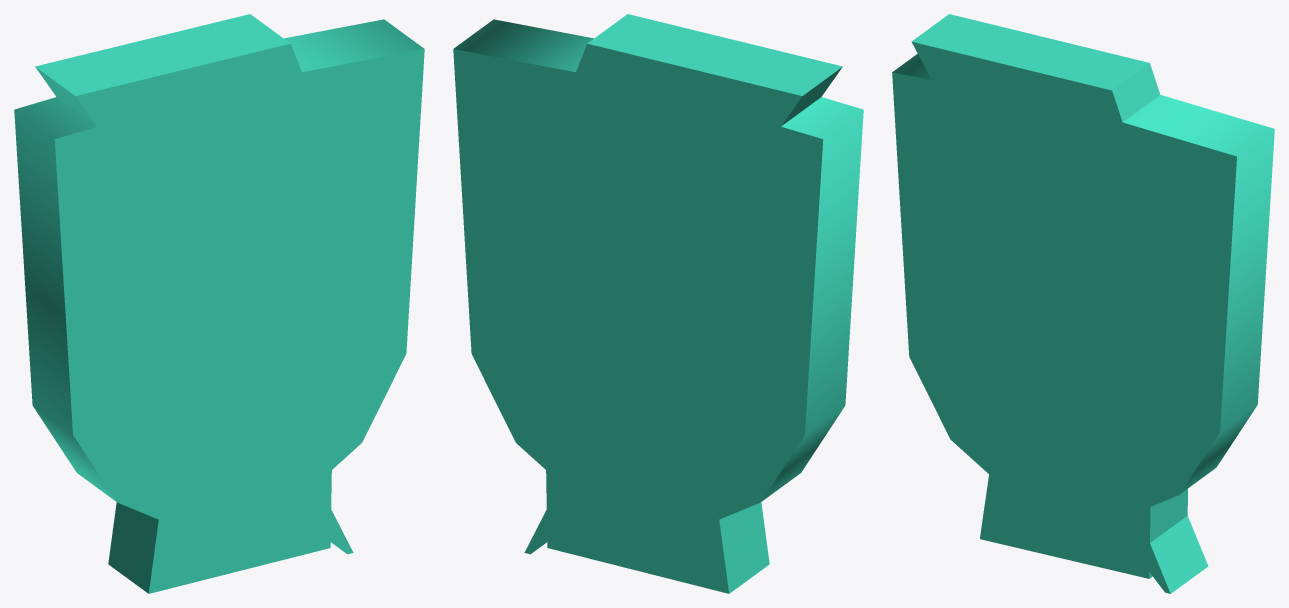
Rendered from PowerUps.fbx.
3 renders of one model, left to right at view 1: azimuth 30°, elevation 25°; view 2: azimuth 150°, elevation 25°; view 3: azimuth 330°, elevation 25°, orthographic. The views are drawn at different scales.
Parts seen in each view (by area): view 1: ShieldIcon, SpeedPowerUp, FistIcon; view 2: ShieldIcon, SpeedPowerUp, FistIcon; view 3: SpeedPowerUp, ShieldIcon, FistIcon.
Part boxes in pixels (x1=…): ShieldIcon: x1=14, y1=19, x2=424, y2=553; SpeedPowerUp: x1=35, y1=14, x2=404, y2=554; FistIcon: x1=108, y1=470, x2=331, y2=593; ShieldIcon: x1=453, y1=19, x2=863, y2=553; SpeedPowerUp: x1=524, y1=14, x2=842, y2=554; FistIcon: x1=546, y1=63, x2=769, y2=593; SpeedPowerUp: x1=911, y1=14, x2=1217, y2=593; ShieldIcon: x1=892, y1=53, x2=1274, y2=542; FistIcon: x1=980, y1=474, x2=1187, y2=578.
Size of the model in its own units: 42.19 by 57.16 by 8.
